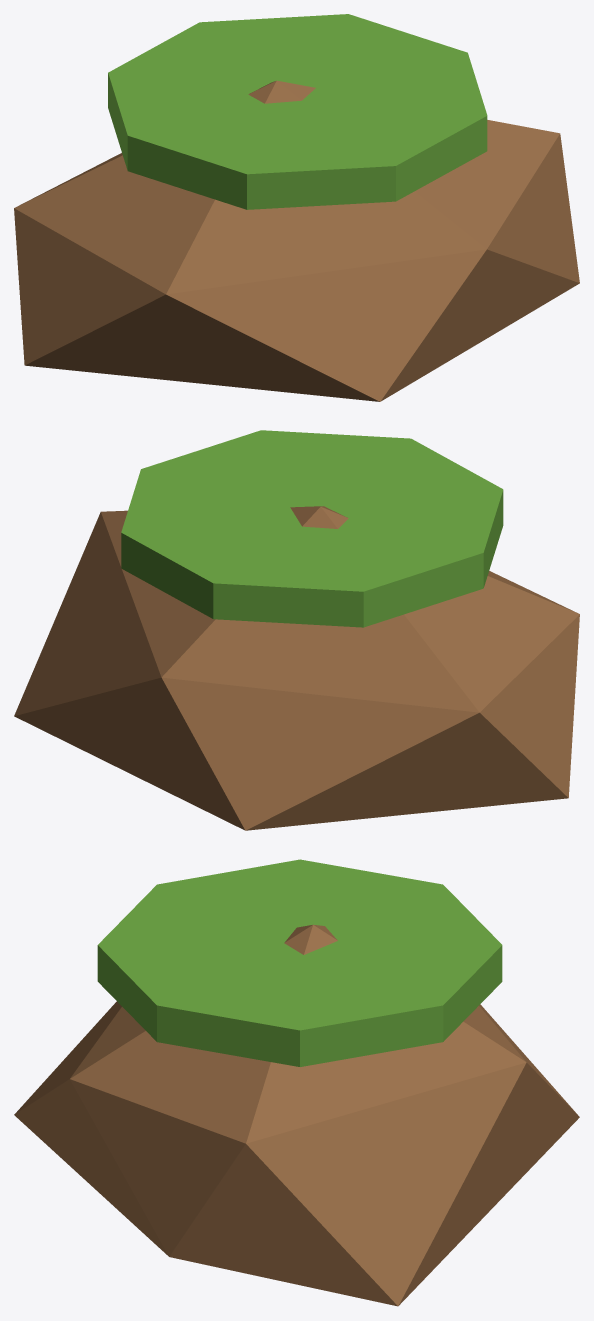
The model's file is sky_floating_rock_c.glb.
3 renders of one model, top to bottom at view 1: azimuth 30°, elevation 25°; view 2: azimuth 150°, elevation 25°; view 3: azimuth 270°, elevation 25°, orthographic. The views are drawn at different scales.
Visible parts, largest first — view 1: floating_rock_c; view 2: floating_rock_c; view 3: floating_rock_c.
Part boxes in pixels (x1,y1,x2,y2): floating_rock_c: (14,14,579,401); floating_rock_c: (14,430,579,830); floating_rock_c: (14,859,579,1306).
Bounding box in the file's own units: 3.01 × 1.56 × 2.8.
